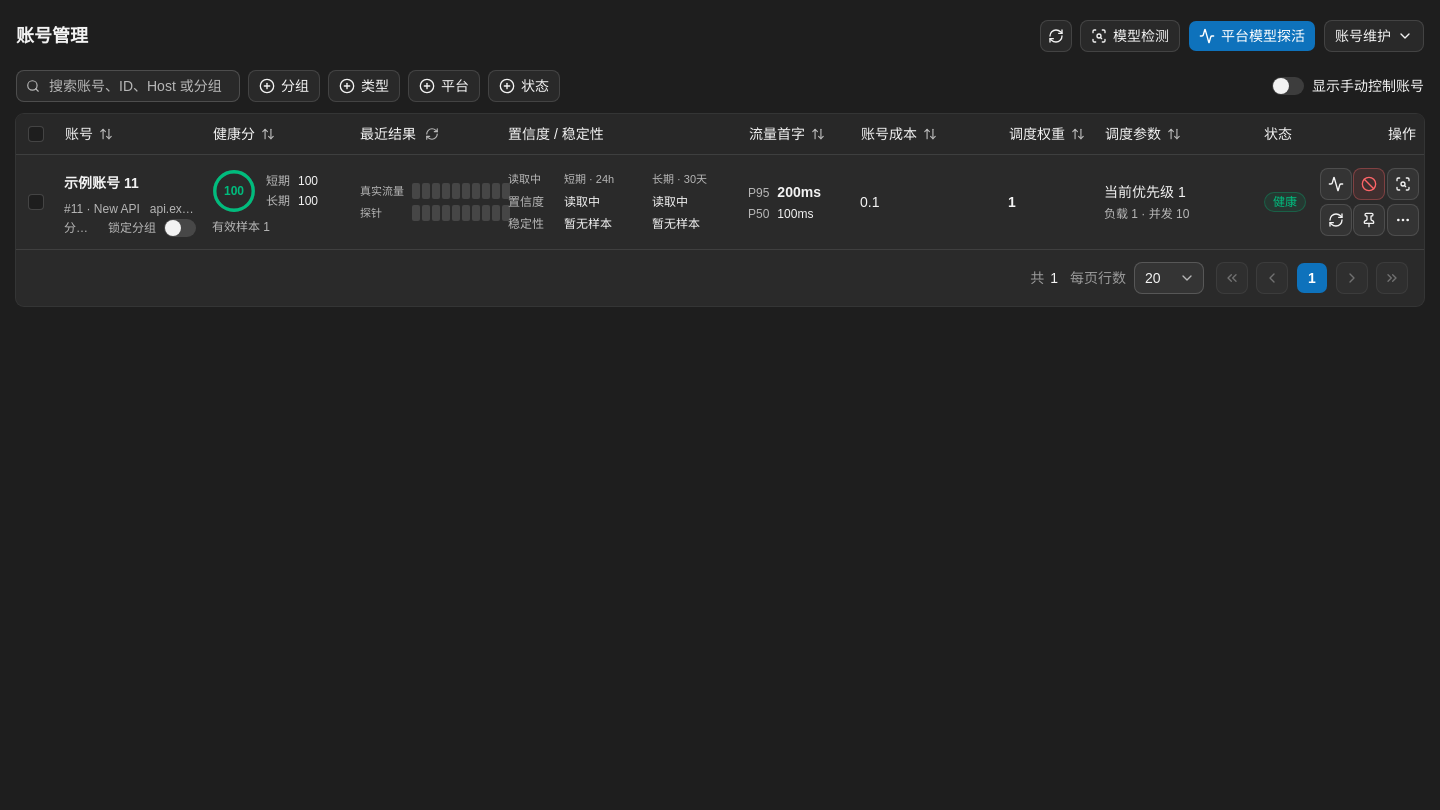
AccountStatusFilter › 从账号管理入口直接打开平台模型探活
The image size is (1440, 810).
What coordinates should you click on to do the following:
click the button "平台模型探活"
I would click on:
 (1252, 36)
Its box is [1188,20,1316,52].
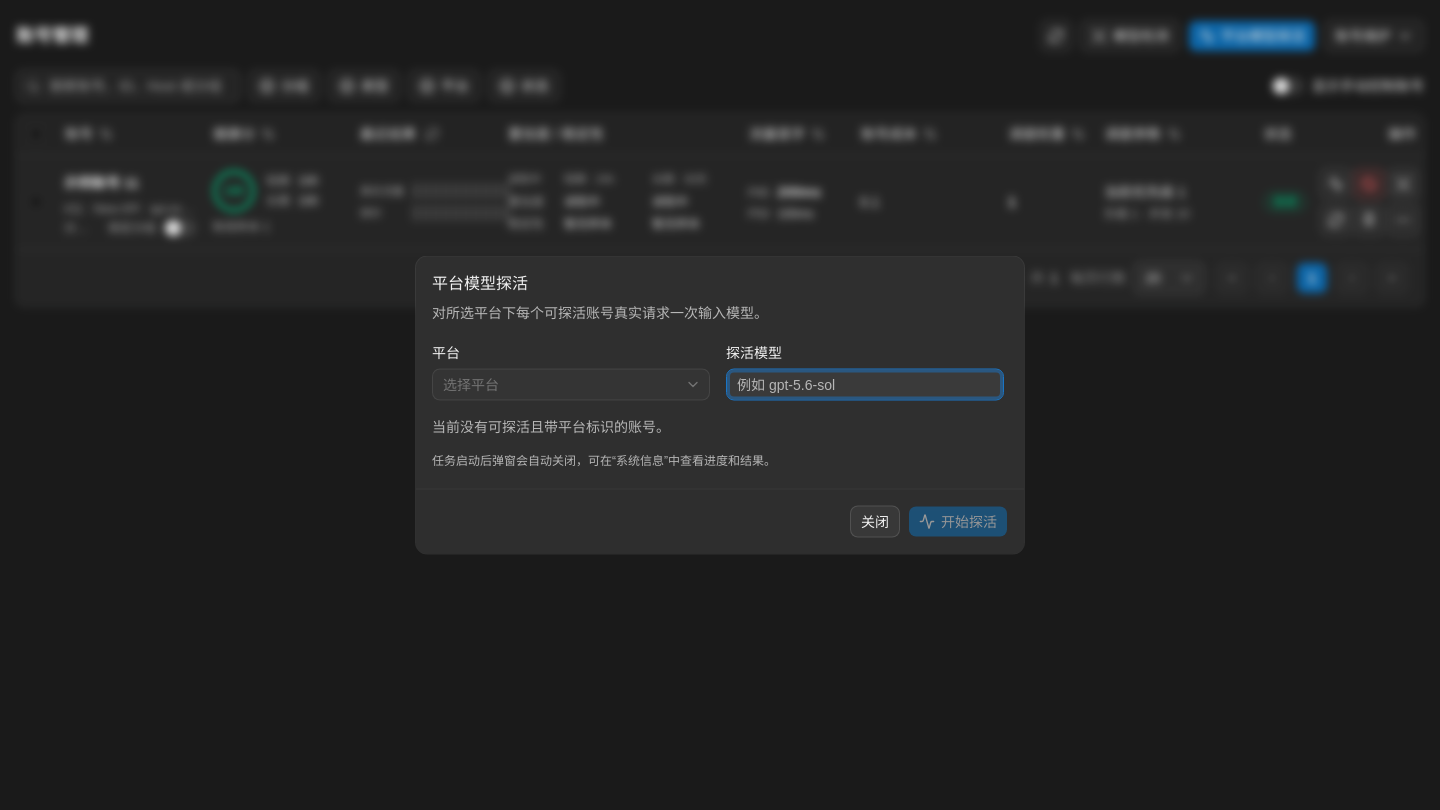
Expected: the dialog "平台模型探活" is shown, [416,256,1024,554]
